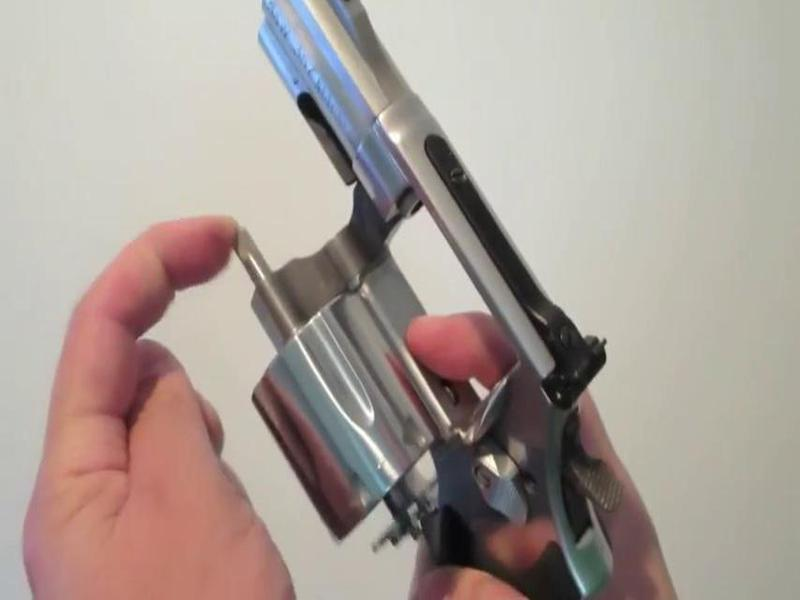Revolver: (216, 1, 646, 596)
